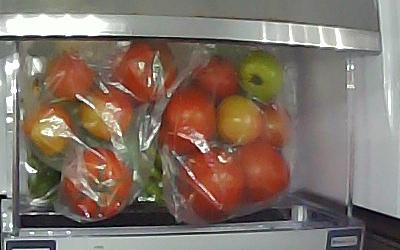tomato_vinyl: (177, 148, 241, 223), (64, 147, 129, 220), (113, 42, 177, 103), (161, 88, 217, 152), (234, 143, 291, 203), (79, 87, 134, 143), (24, 102, 72, 157), (44, 53, 96, 102), (237, 51, 283, 102), (217, 96, 264, 144), (192, 54, 239, 97), (255, 102, 288, 151)
